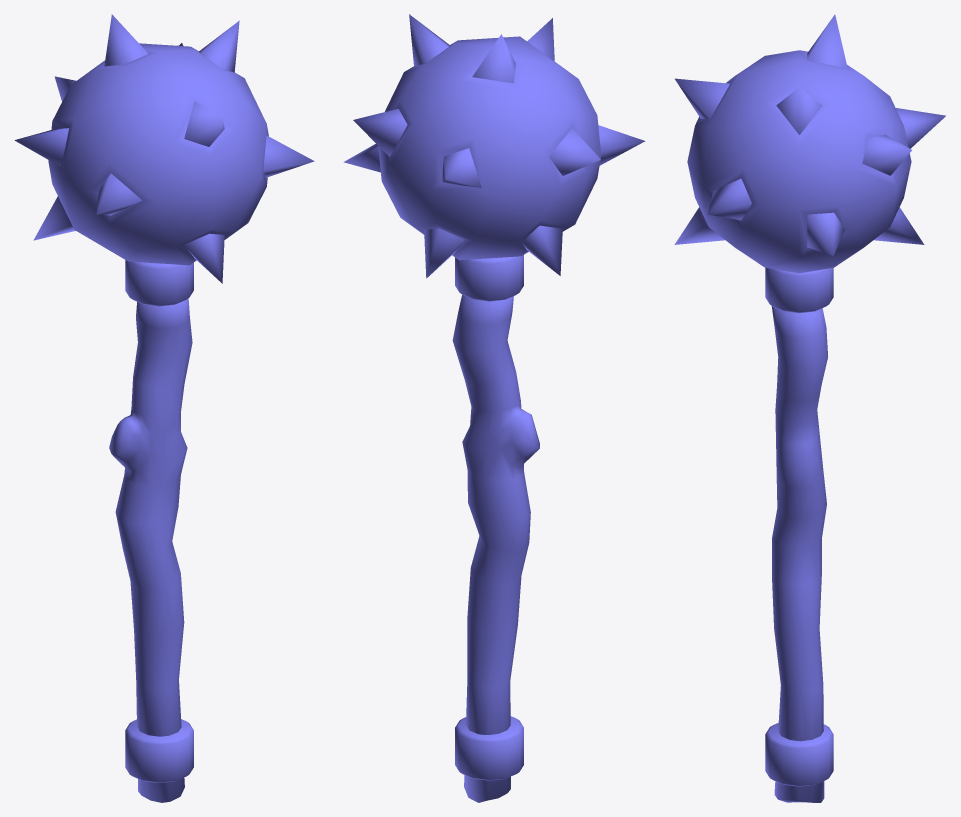
3 renders of one model, left to right at view 1: azimuth 30°, elevation 25°; view 2: azimuth 150°, elevation 25°; view 3: azimuth 270°, elevation 25°, orthographic.
Parts seen in each view (by area): view 1: Mace_low, Shaft_low, Rings_low; view 2: Mace_low, Shaft_low, Rings_low; view 3: Mace_low, Shaft_low, Rings_low.
Part boxes in pixels (x1,y1,x2,y2): Mace_low: (14,14,314,283); Shaft_low: (109,298,192,802); Rings_low: (125,260,193,782); Mace_low: (343,14,645,278); Shaft_low: (452,294,539,802); Rings_low: (455,255,523,780); Mace_low: (674,14,945,273); Shaft_low: (771,306,827,802); Rings_low: (765,267,833,786).
Bounding box in the file's own units: 0.6907 × 2 × 0.639.
